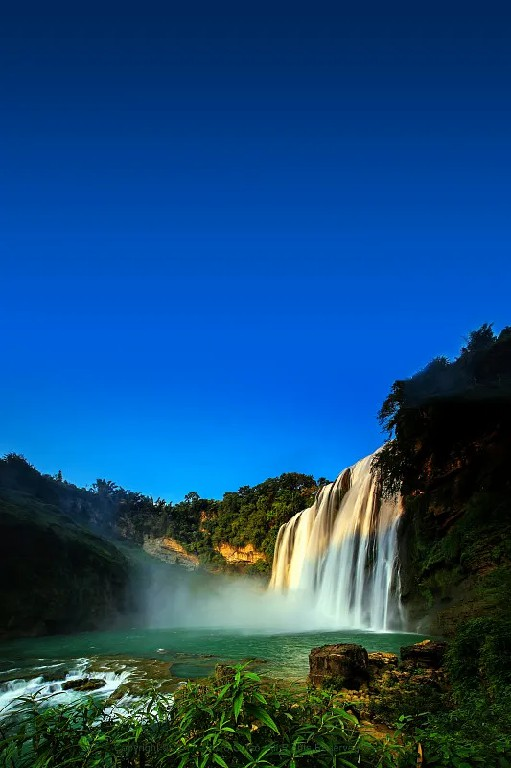Huangguoshu: (268, 437, 401, 632)
